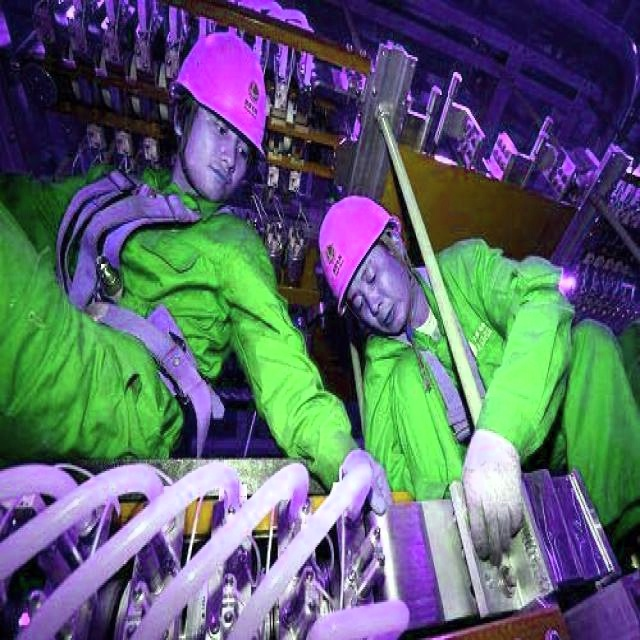safety belt: (52, 176, 214, 387), (407, 313, 527, 461)
